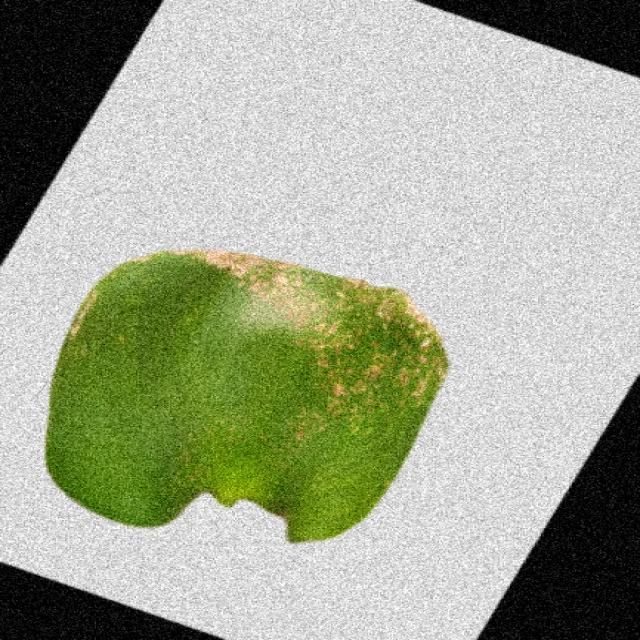daun berpenyakit bercak: (47, 250, 447, 541)
